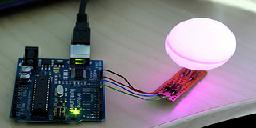LED: (163, 18, 240, 78)
